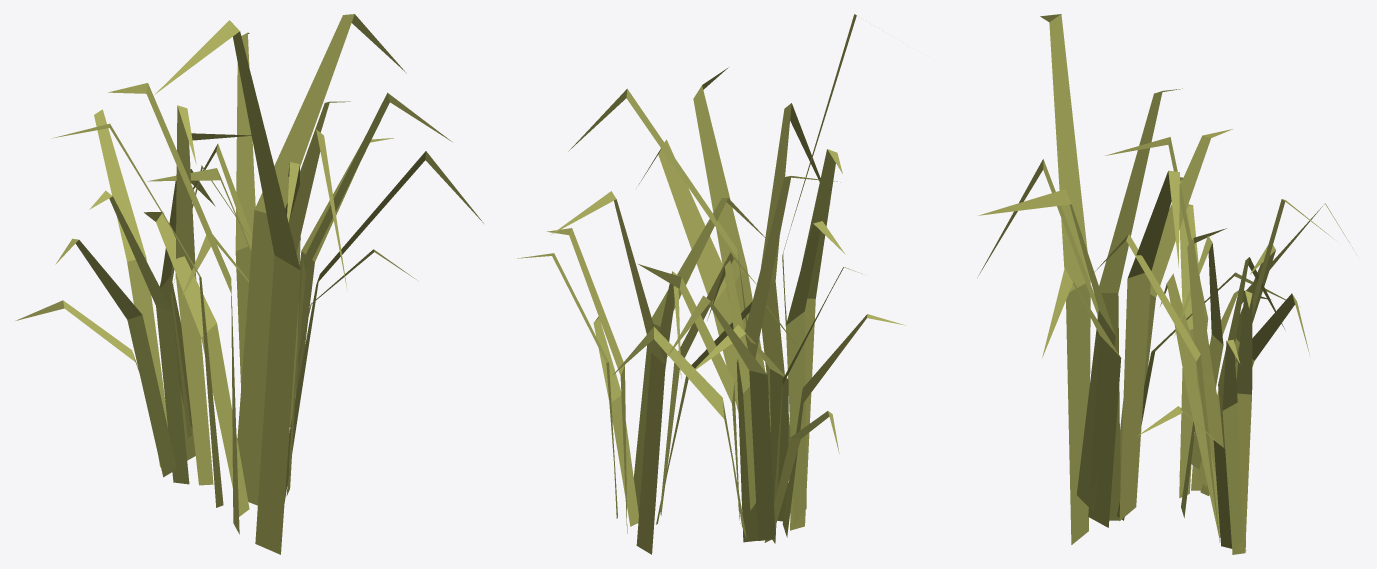
File: tall_grass.glb
3 views of the same model, side by side, from view 1: azimuth 30°, elevation 25°; view 2: azimuth 150°, elevation 25°; view 3: azimuth 270°, elevation 25° (orthographic). The views are drawn at different scales.
Visible parts, largest first — view 1: tall_grass.011; view 2: tall_grass.011; view 3: tall_grass.011.
Part boxes in pixels (x1,y1,x2,y2): tall_grass.011: (15, 14, 483, 554); tall_grass.011: (517, 14, 904, 554); tall_grass.011: (977, 14, 1356, 554).
Bounding box in the file's own units: 2.63 × 3.65 × 2.53.
